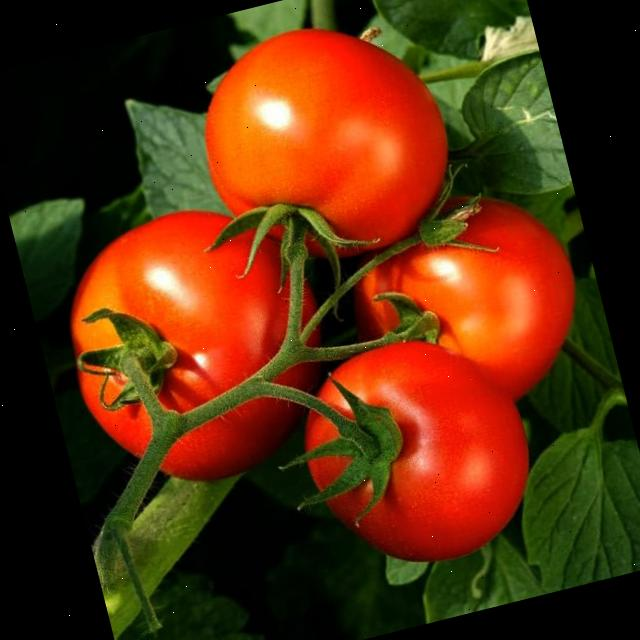tomato: (38, 179, 348, 508), (163, 0, 483, 316), (268, 299, 560, 600), (320, 152, 610, 452)
